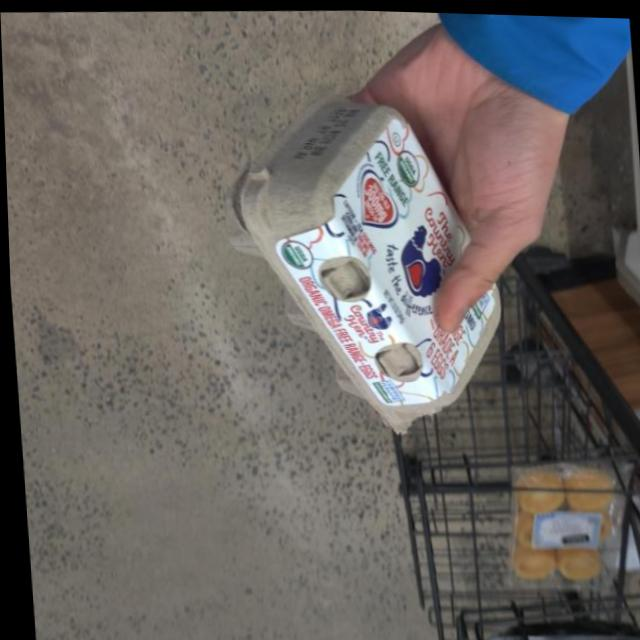Eggs: (209, 73, 510, 461)
